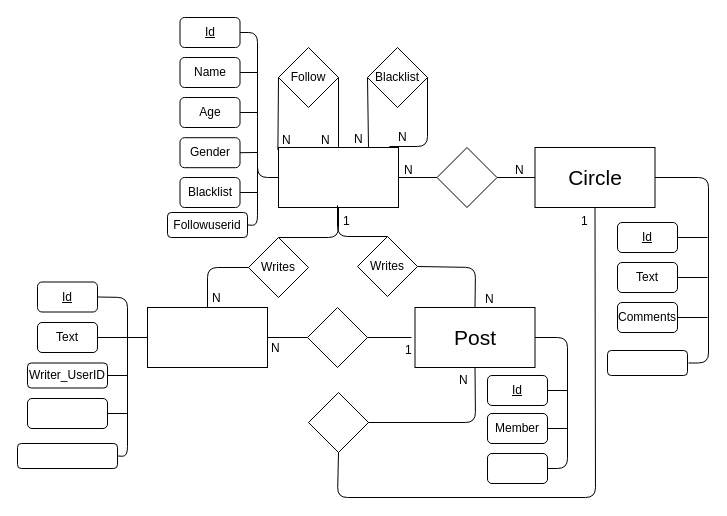
Image size: 727x516. Some labels were removed from this diagram. The box of each missing label's shape, as (x1, y1, x2, y2) in pixels:
Comment: (146, 306, 268, 368)
Contain: (308, 392, 368, 452)
Create: (436, 146, 497, 208)
ForUser: (486, 452, 548, 484)
Has: (306, 306, 368, 368)
OwnerPostID: (26, 398, 108, 428)
PosterOwner: (606, 350, 688, 376)
User: (278, 146, 398, 208)
Writer_UserName: (16, 442, 118, 468)
